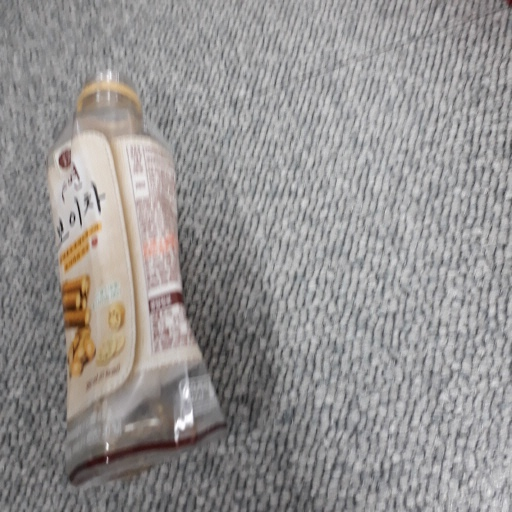Plastic_0: (47, 72, 219, 484)
